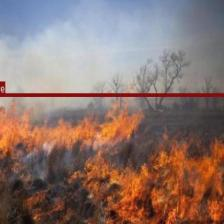fire: (0, 93, 224, 224)
